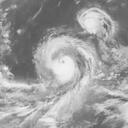cyclone: (32, 36, 91, 85), (78, 7, 113, 33)
